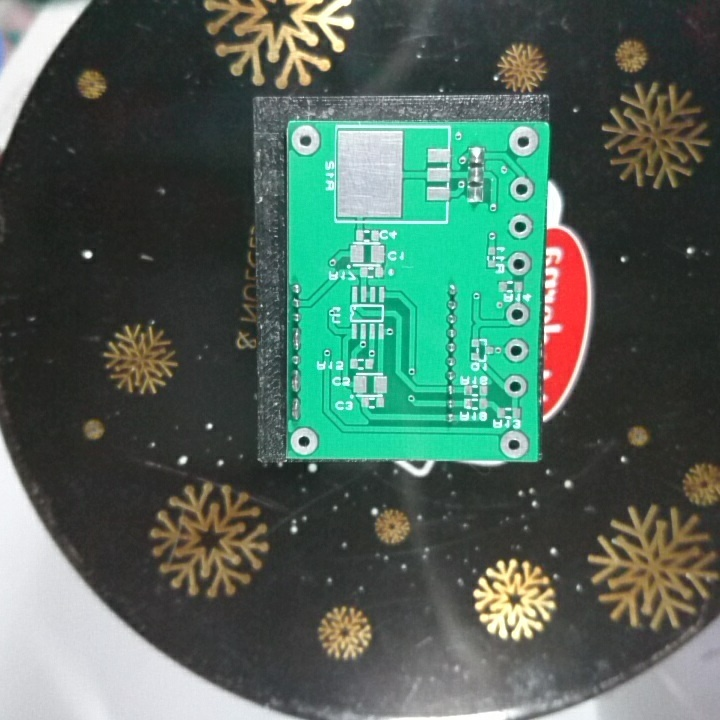F: (507, 124, 542, 158), (291, 123, 323, 158), (497, 428, 531, 460), (289, 426, 322, 456), (502, 335, 533, 364), (503, 299, 531, 329), (507, 175, 535, 204), (505, 249, 534, 277), (502, 372, 531, 400), (507, 213, 535, 241)
P: (289, 326, 305, 355), (288, 395, 303, 423), (290, 366, 304, 395)
